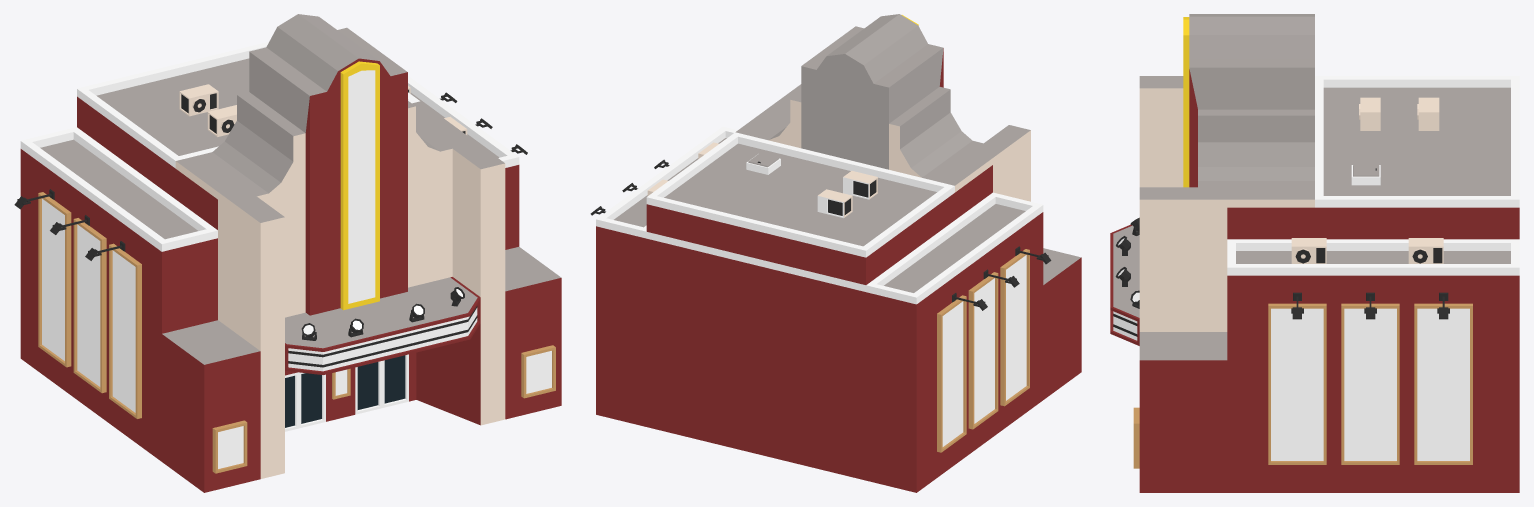
The model's file is building-cinema.glb.
3 views of the same model, side by side, from view 1: azimuth 30°, elevation 25°; view 2: azimuth 150°, elevation 25°; view 3: azimuth 270°, elevation 25° (orthographic). The views are drawn at different scales.
Visible parts, largest first — view 1: building-cinema; view 2: building-cinema; view 3: building-cinema.
Part boxes in pixels (bbox=[...]): building-cinema: bbox=[14, 14, 561, 492]; building-cinema: bbox=[590, 14, 1081, 492]; building-cinema: bbox=[1110, 14, 1519, 492].
Size of the model in its own units: 17.92 by 14.58 by 14.
Materials: 1 (1 with a texture image).
